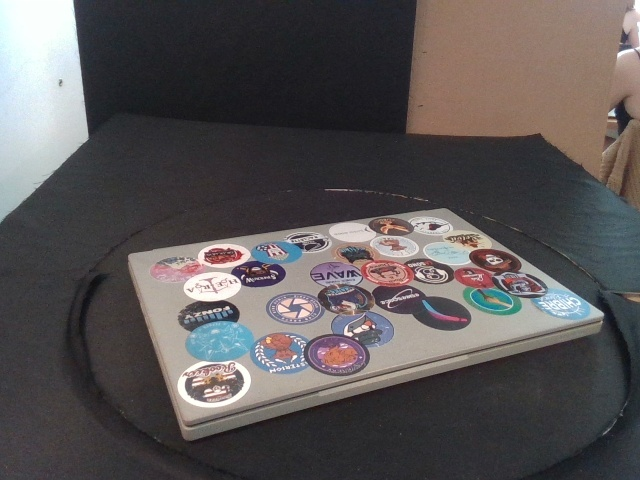laptop: (126, 207, 604, 441)
